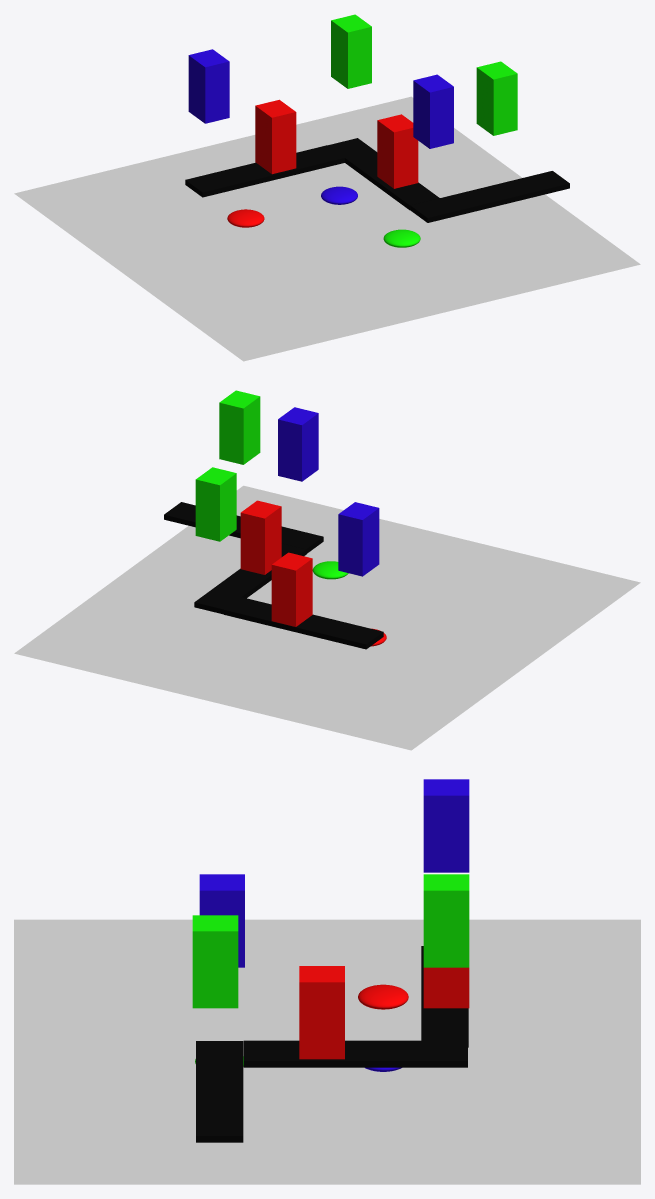
The model's file is Level 1.fbx.
3 views of the same model, one above another, from view 1: azimuth 30°, elevation 25°; view 2: azimuth 150°, elevation 25°; view 3: azimuth 270°, elevation 25° (orthographic). The views are drawn at different scales.
Visible parts, largest first — view 1: Plane, Cube__2_, Cube, Green, Blue_1, Red, Green_1, Blue, Red_1, Cube__1_, Sphere, Sphere__1_ (+1 smaller); view 2: Plane, Green, Blue_1, Red, Green_1, Cube, Blue, Red_1, Cube__1_, Cube__2_; view 3: Plane, Cube__1_, Cube__2_, Green_1, Blue_1, Green, Red_1, Blue, Red, Cube, Sphere.
Boxes of the visible parts, x1=… form: Plane: x1=14, y1=96, x2=640, y2=361; Cube__2_: x1=410, y1=171, x2=569, y2=222; Cube: x1=185, y1=145, x2=344, y2=197; Green: x1=476, y1=61, x2=517, y2=135; Blue_1: x1=188, y1=49, x2=229, y2=123; Red: x1=255, y1=99, x2=296, y2=174; Green_1: x1=331, y1=14, x2=371, y2=88; Blue: x1=413, y1=74, x2=453, y2=148; Red_1: x1=377, y1=114, x2=418, y2=188; Cube__1_: x1=328, y1=138, x2=439, y2=210; Sphere: x1=227, y1=209, x2=264, y2=227; Sphere__1_: x1=383, y1=229, x2=420, y2=247; Plane: x1=14, y1=485, x2=640, y2=750; Green: x1=219, y1=390, x2=260, y2=464; Blue_1: x1=338, y1=502, x2=379, y2=576; Red: x1=271, y1=552, x2=312, y2=626; Green_1: x1=195, y1=467, x2=236, y2=541; Cube: x1=224, y1=597, x2=383, y2=649; Blue: x1=278, y1=407, x2=318, y2=481; Red_1: x1=240, y1=500, x2=281, y2=574; Cube__1_: x1=194, y1=543, x2=306, y2=614; Cube__2_: x1=164, y1=502, x2=323, y2=553; Plane: x1=14, y1=919, x2=640, y2=1184; Cube__1_: x1=243, y1=1040, x2=467, y2=1067; Cube__2_: x1=196, y1=1041, x2=243, y2=1142; Green_1: x1=423, y1=874, x2=469, y2=967; Blue_1: x1=423, y1=779, x2=469, y2=872; Green: x1=192, y1=915, x2=238, y2=1008; Red_1: x1=299, y1=966, x2=344, y2=1059; Blue: x1=199, y1=874, x2=244, y2=967; Red: x1=423, y1=967, x2=469, y2=1008; Cube: x1=421, y1=946, x2=468, y2=1047; Sphere: x1=358, y1=984, x2=408, y2=1009.
Size of the model in its own units: 1639 by 619 by 1639.
